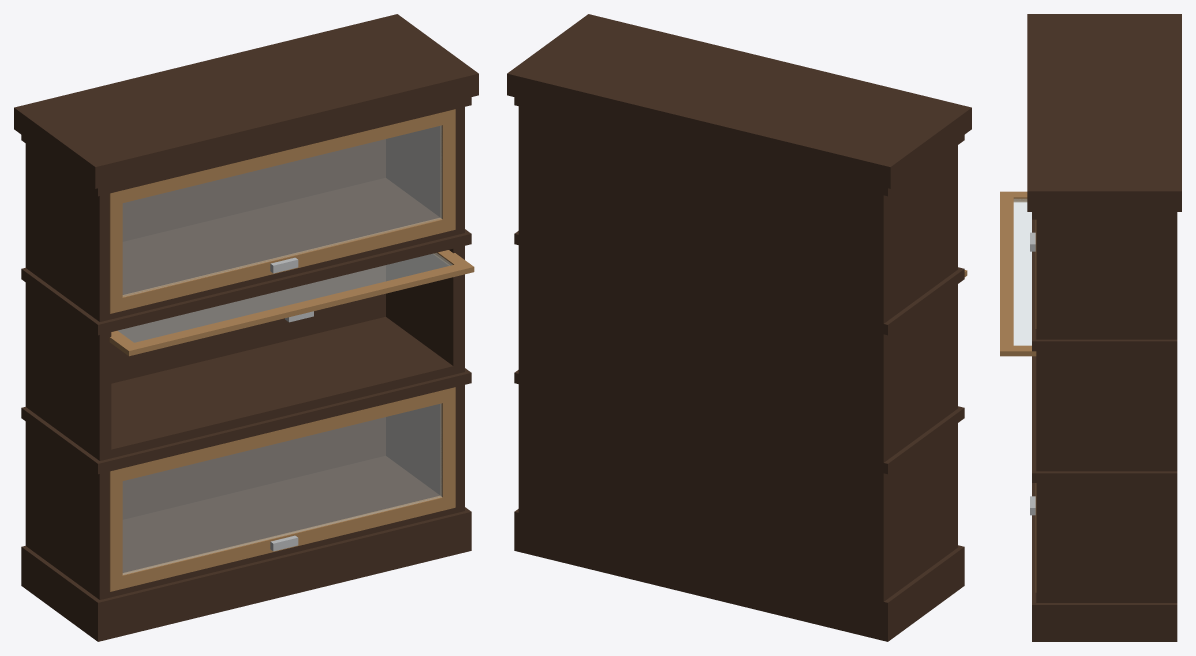
File: FN_Bookcase_Barrister.glb
3 renders of one model, left to right at view 1: azimuth 30°, elevation 25°; view 2: azimuth 150°, elevation 25°; view 3: azimuth 270°, elevation 25°, orthographic. The views are drawn at different scales.
Parts seen in each view (by area): view 1: FN_Bookcase_Barrister; view 2: FN_Bookcase_Barrister; view 3: FN_Bookcase_Barrister.
Boxes of the visible parts, bbox=[...] form: FN_Bookcase_Barrister: bbox=[14, 14, 478, 641]; FN_Bookcase_Barrister: bbox=[507, 14, 971, 641]; FN_Bookcase_Barrister: bbox=[1000, 14, 1181, 641].
Bounding box in the file's own units: 0.924 × 1.1 × 0.4.
2 materials, 1 textured.
